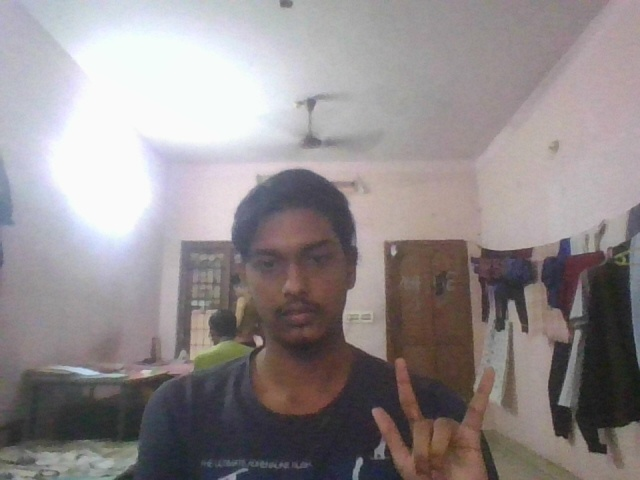iloveyou: (364, 352, 506, 480)
